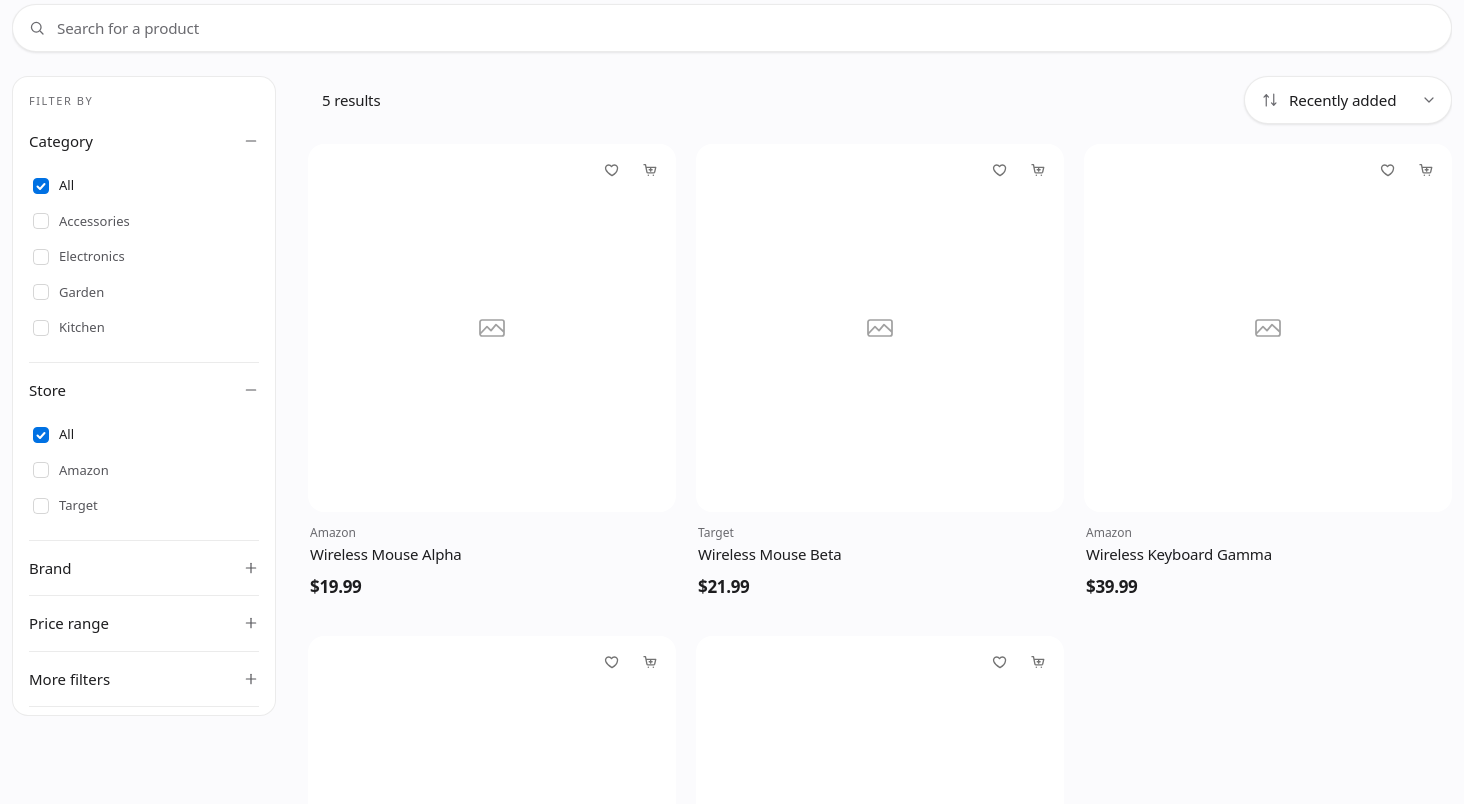
Test: ProductSearchApp › category filter combines with query and store (all three at once)
In the search field labelled "Search for a product": point(732, 28) [12,4,1452,52], type "Wireless"
Wait 300 ms
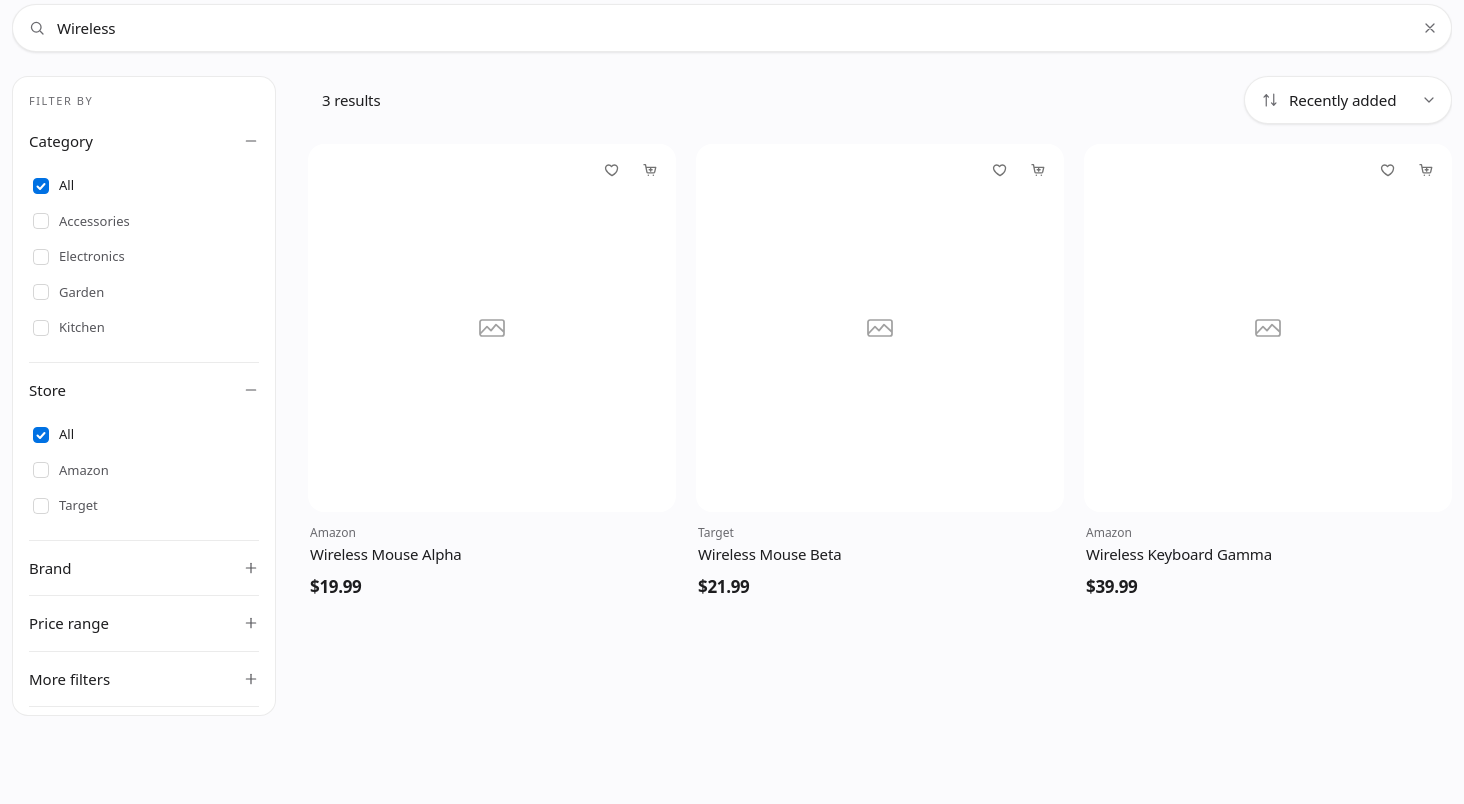
Click the checkbox labelled "Amazon": point(71, 470) [33,460,109,478]
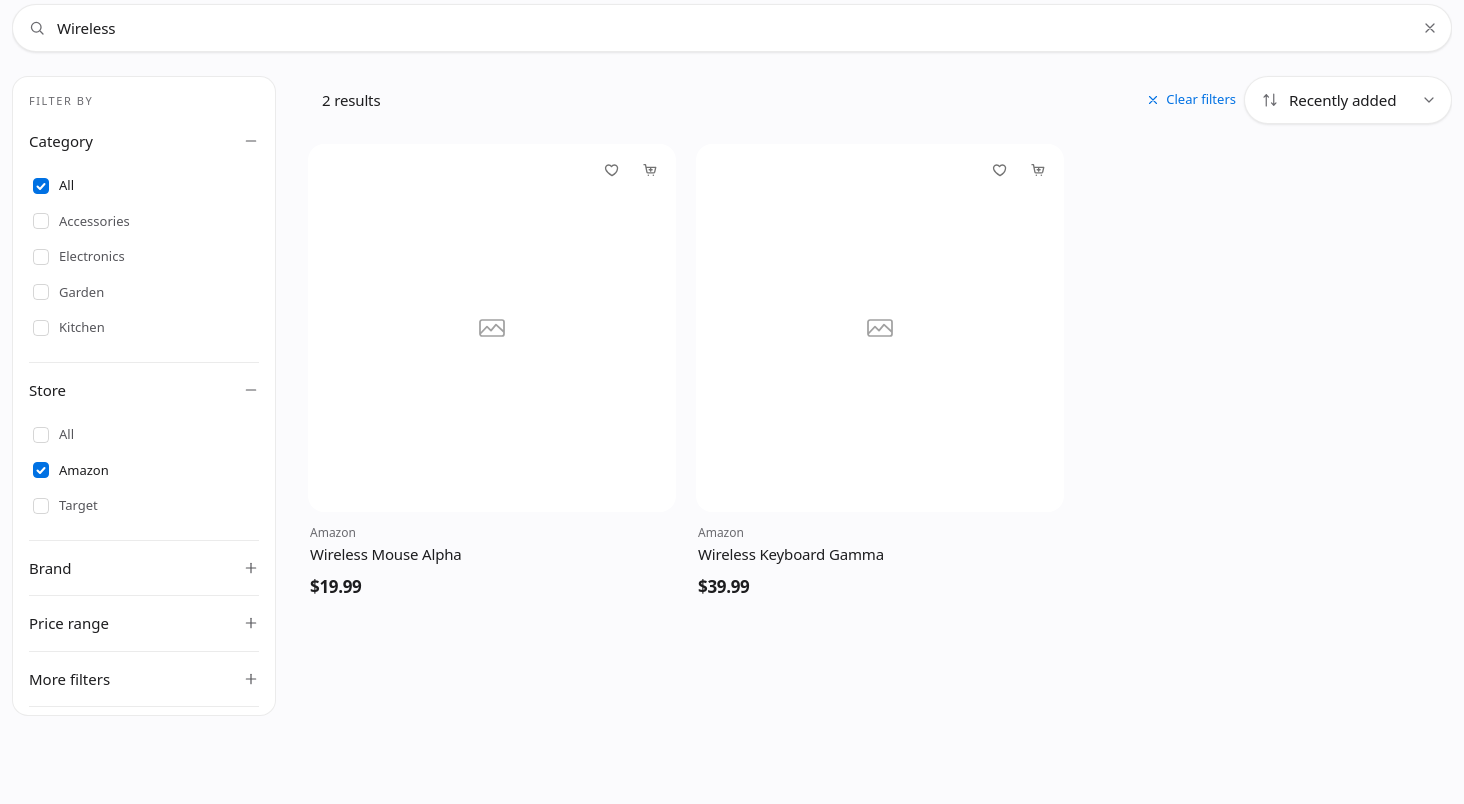
Expected: the heading "Wireless Keyboard Gamma" is shown, [698,544,884,564]
Click the checkbox labelled "Electronics": point(79, 256) [33,247,125,265]
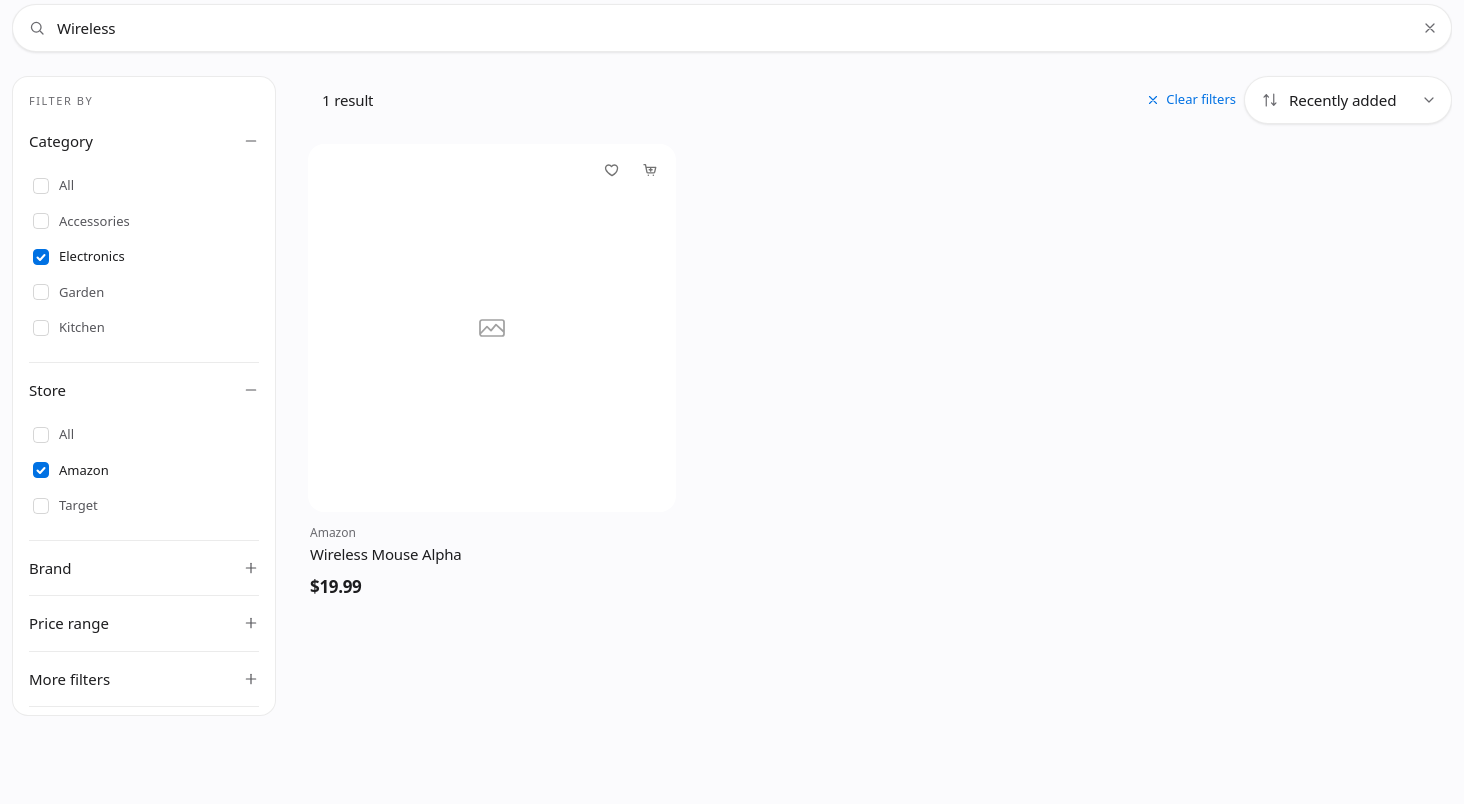
Expected: the heading "Wireless Mouse Alpha" is shown, [310,544,462,564]
Expected: the link "Wireless Keyboard Gamma" is gone
